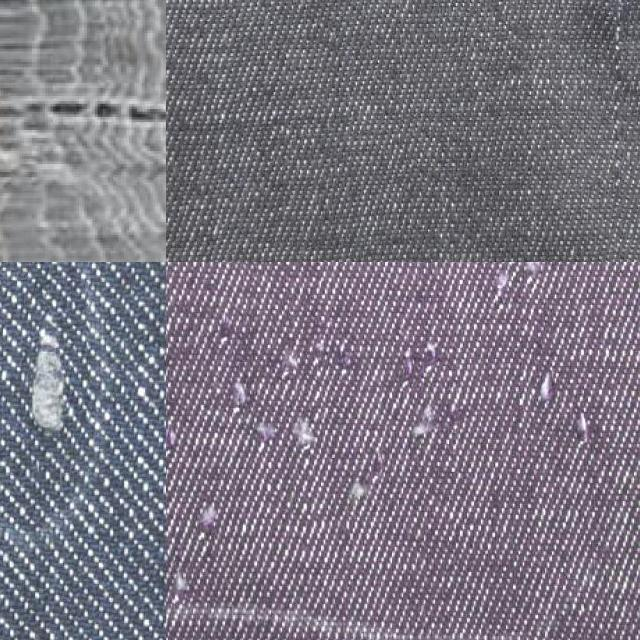stains: (166, 262, 633, 624), (0, 280, 88, 474), (535, 0, 640, 143)
